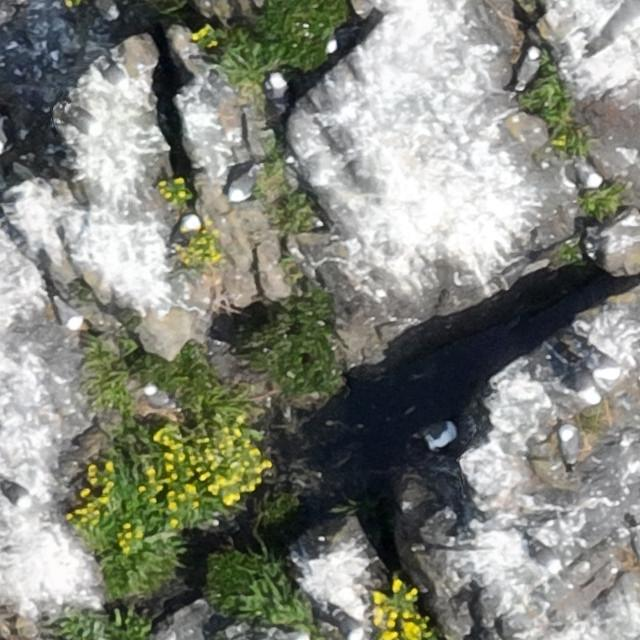umineko: (554, 358, 602, 402), (166, 211, 202, 251), (60, 108, 106, 138), (589, 345, 624, 380), (265, 71, 292, 106), (331, 612, 365, 638), (525, 542, 559, 566), (517, 50, 540, 85), (54, 298, 81, 327), (230, 171, 254, 201), (561, 428, 580, 465), (1, 480, 29, 505), (428, 424, 458, 446), (326, 32, 356, 54), (145, 387, 173, 410)
